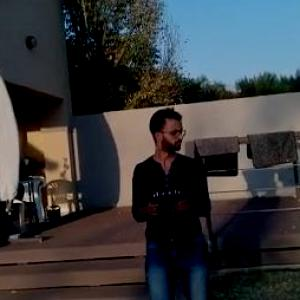follow: (126, 102, 218, 298)
